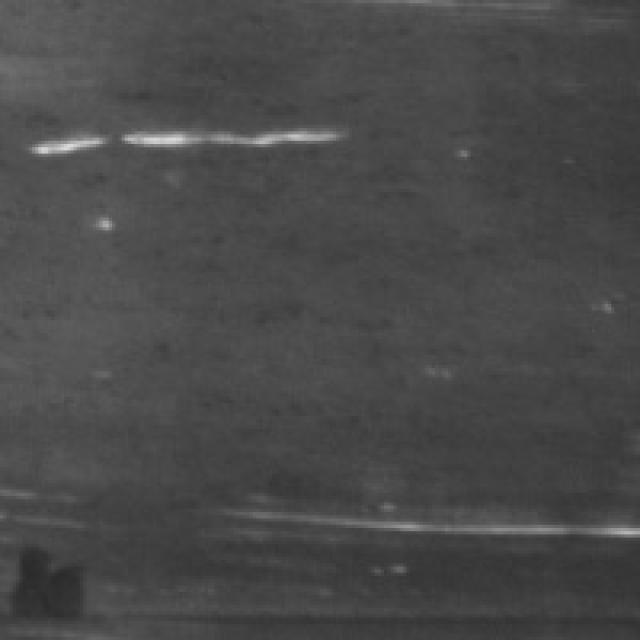inclusion: (3, 538, 83, 620)
scratches: (259, 496, 634, 544), (20, 109, 342, 163)
